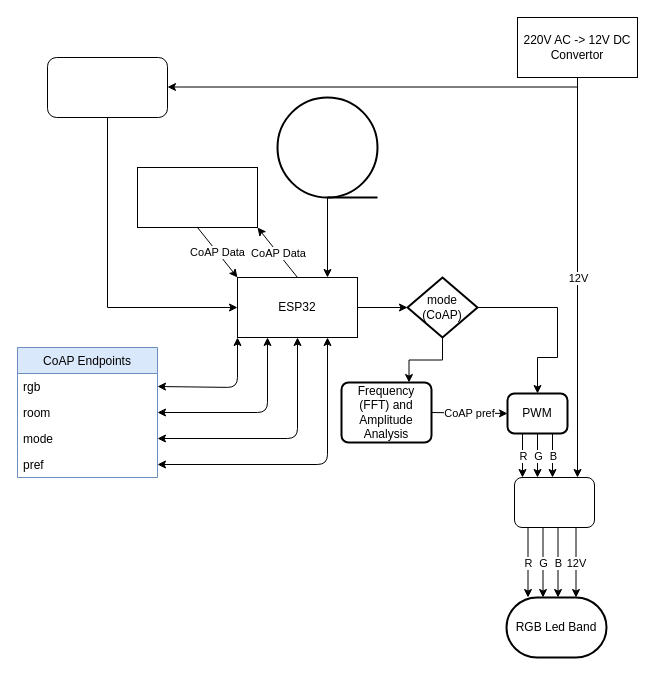
The diagram is 655 pixels wide and 676 high, and some of its shapes have lost their labels. The centre of each missing label's shape, as x and y in pixels:
"12V-5V DC Convertor" goes at pixel 107 87.
"I2S ADC Mic Input" goes at pixel 327 147.
"Non-Volatile Storage" goes at pixel 197 197.
"RGB Led Band Driver" goes at pixel 554 502.
